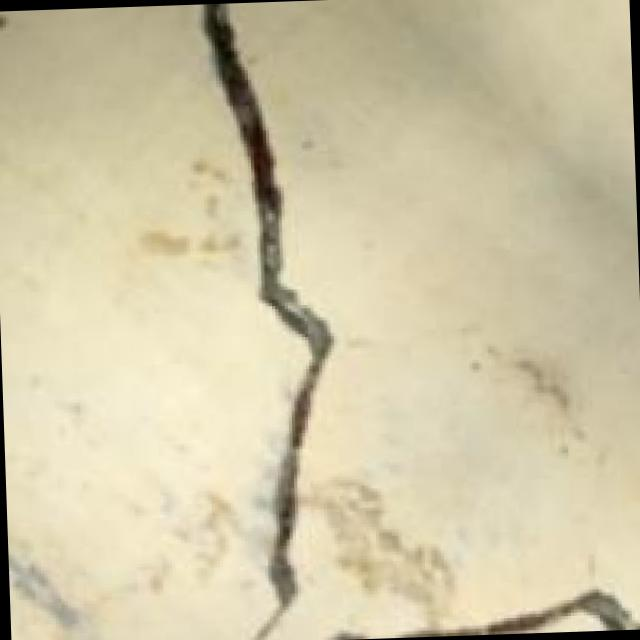crack: (126, 2, 359, 640)
